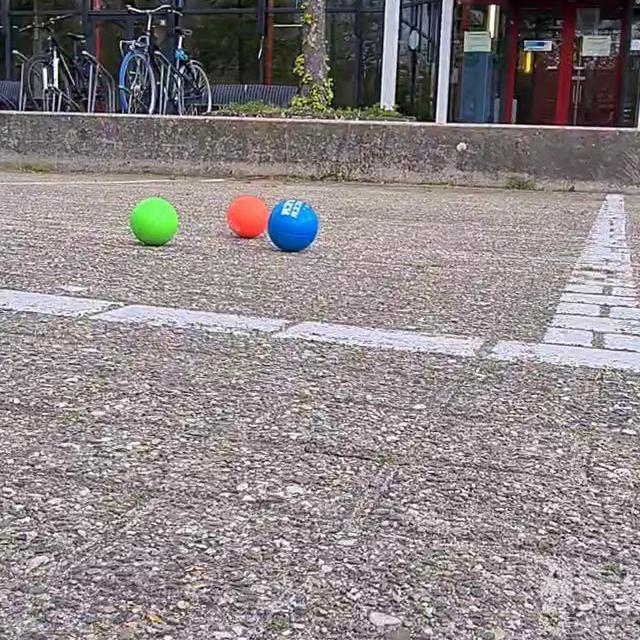ball: (268, 195, 322, 254), (129, 194, 182, 251), (222, 194, 270, 240)
